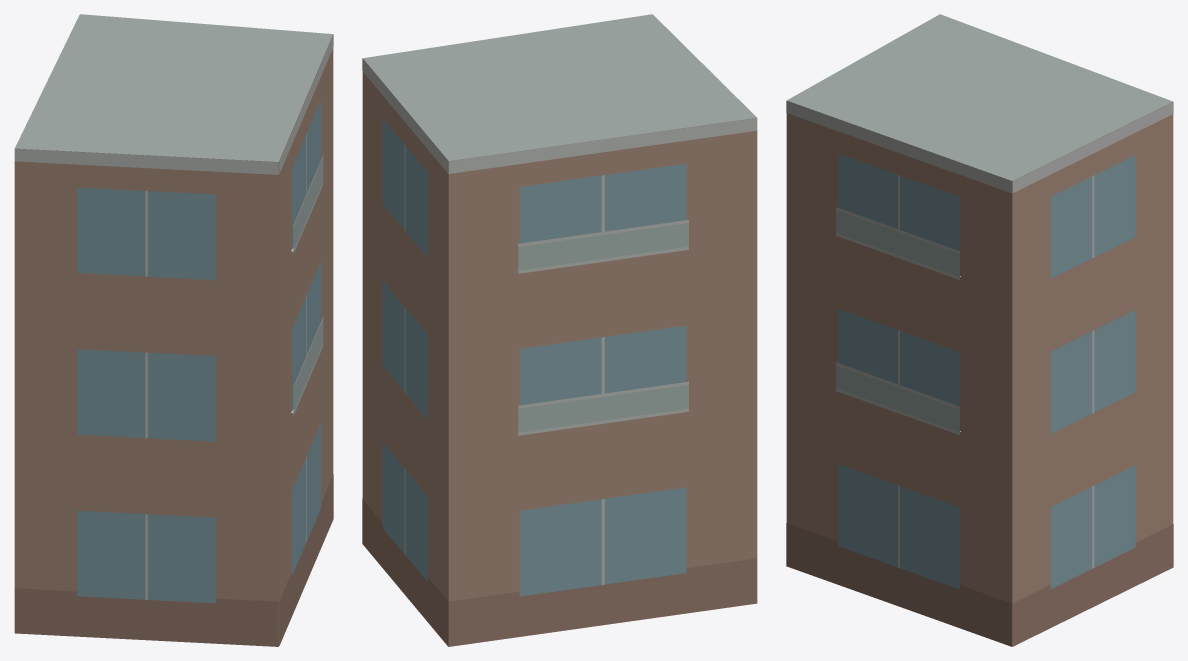
The model's file is survey-upis-32485317.glb.
The picture shows the model from 3 angles, left to right: view 1: azimuth 30°, elevation 25°; view 2: azimuth 150°, elevation 25°; view 3: azimuth 270°, elevation 25°; orthographic projection. The views are drawn at different scales.
Visible parts, largest first — view 1: survey-upis-32485317.tmp; view 2: survey-upis-32485317.tmp; view 3: survey-upis-32485317.tmp.
Part boxes in pixels (x1,y1,x2,y2): survey-upis-32485317.tmp: [14, 14, 333, 646]; survey-upis-32485317.tmp: [362, 14, 757, 646]; survey-upis-32485317.tmp: [786, 14, 1173, 646].
Bounding box in the file's own units: 7.05 × 9.15 × 6.9.
